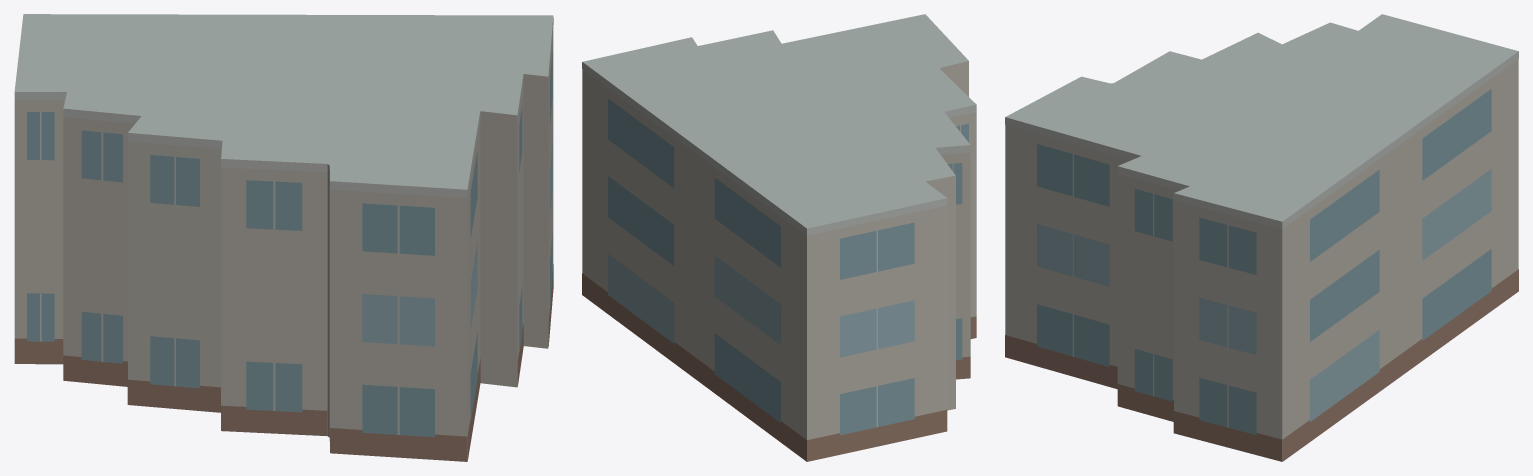
The model's file is survey-upis-32896107.glb.
3 renders of one model, left to right at view 1: azimuth 30°, elevation 25°; view 2: azimuth 150°, elevation 25°; view 3: azimuth 270°, elevation 25°, orthographic. The views are drawn at different scales.
Visible parts, largest first — view 1: survey-upis-32896107.tmp; view 2: survey-upis-32896107.tmp; view 3: survey-upis-32896107.tmp.
Boxes of the visible parts, x1,y1,x2,y2 form: survey-upis-32896107.tmp: (14, 14, 553, 461); survey-upis-32896107.tmp: (582, 14, 976, 461); survey-upis-32896107.tmp: (1005, 14, 1518, 461).
Bounding box in the file's own units: 14.66 × 7.9 × 15.32.
